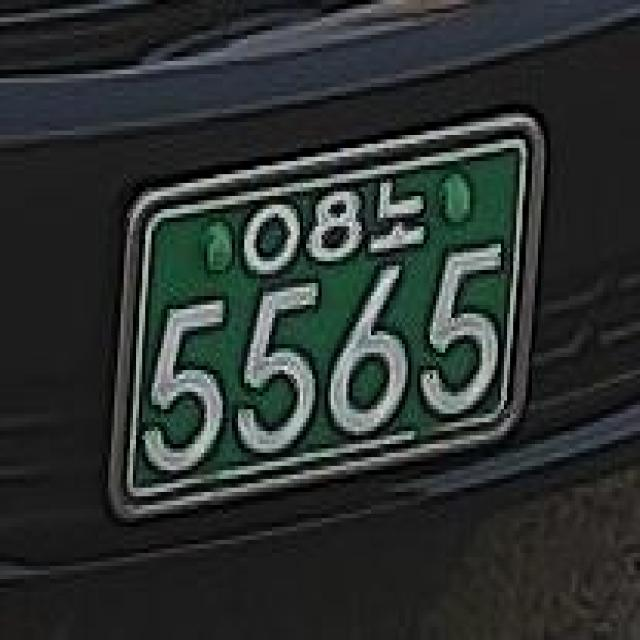illegal_plate: (107, 114, 548, 536)
